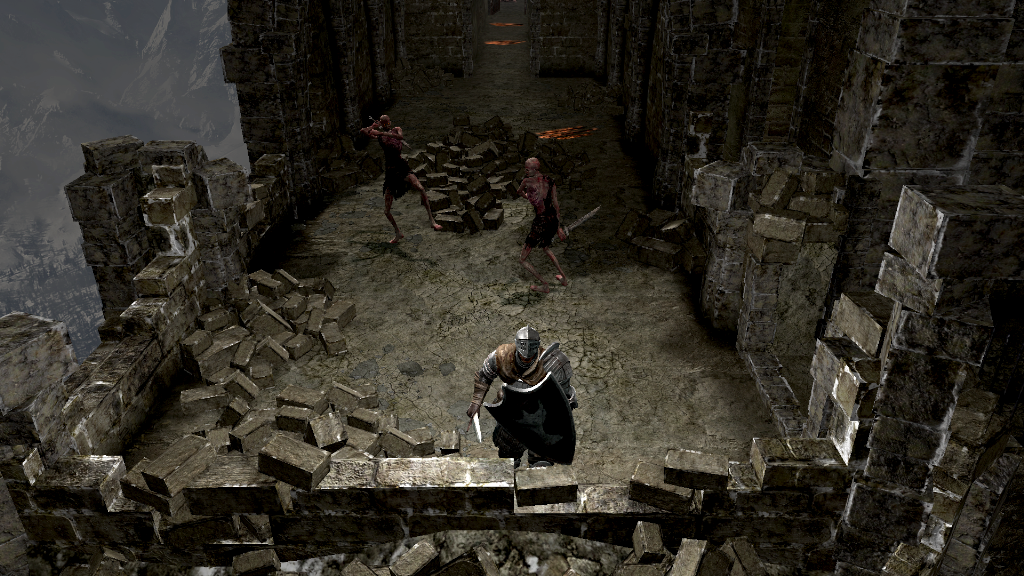hollow: (358, 114, 443, 243), (514, 157, 569, 293)
player: (465, 323, 580, 467)
